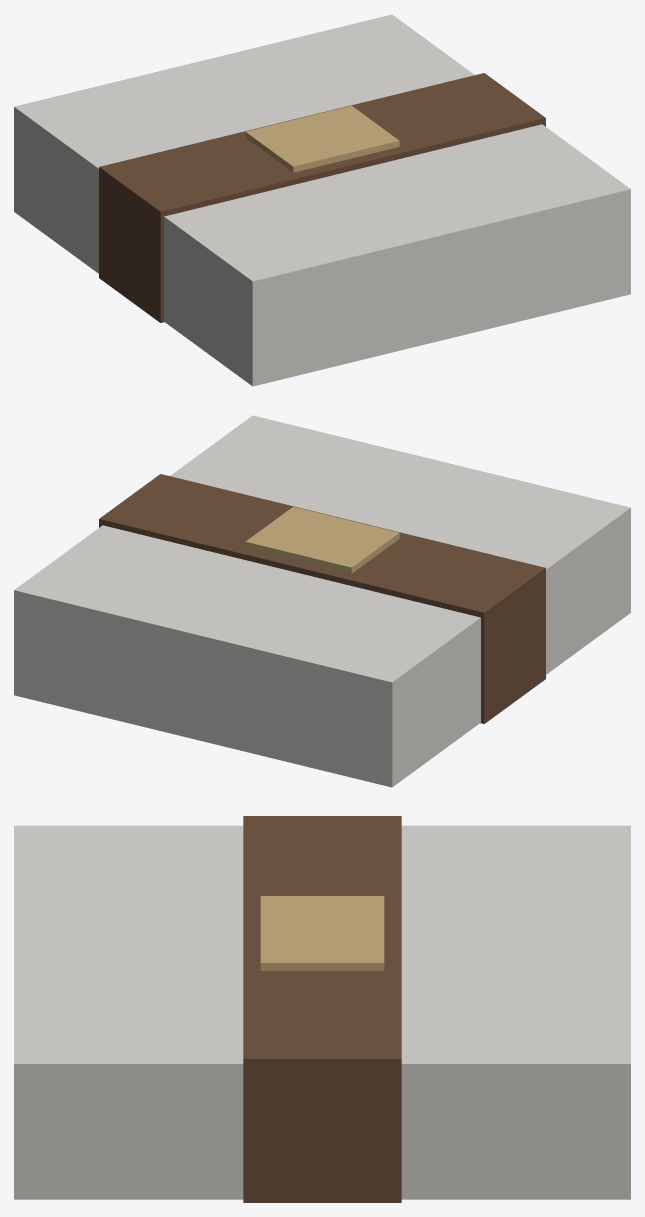
Rendered from SV_MP_SKU_01_v01_lod1.glb.
The picture shows the model from 3 angles, top to bottom: view 1: azimuth 30°, elevation 25°; view 2: azimuth 150°, elevation 25°; view 3: azimuth 270°, elevation 25°; orthographic projection. The views are drawn at different scales.
Parts seen in each view (by area): view 1: mproto_SV_MP_SKU_01_v01; view 2: mproto_SV_MP_SKU_01_v01; view 3: mproto_SV_MP_SKU_01_v01.
Part boxes in pixels (x1=…): mproto_SV_MP_SKU_01_v01: x1=14, y1=14, x2=630, y2=386; mproto_SV_MP_SKU_01_v01: x1=14, y1=415, x2=630, y2=787; mproto_SV_MP_SKU_01_v01: x1=14, y1=816, x2=630, y2=1202.
Size of the model in its own units: 0.0652 by 0.019 by 0.07.
